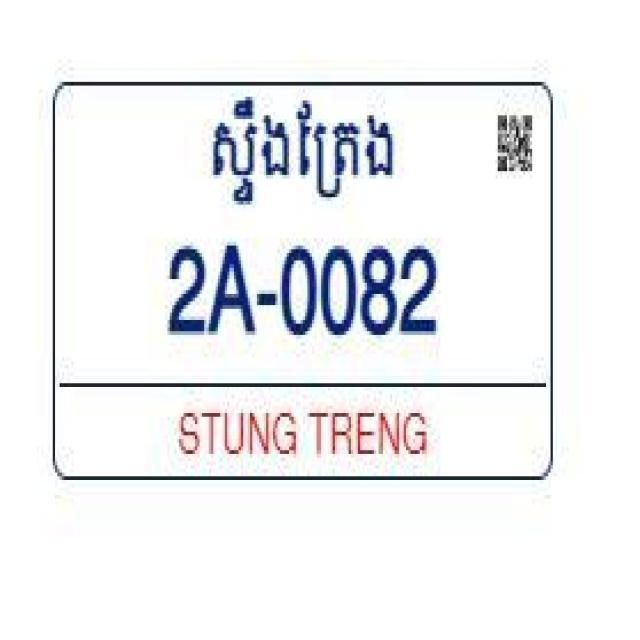Stung_Treng: (209, 93, 400, 209)
